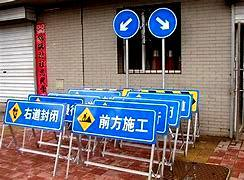sign: (73, 106, 155, 139), (5, 102, 62, 125)
